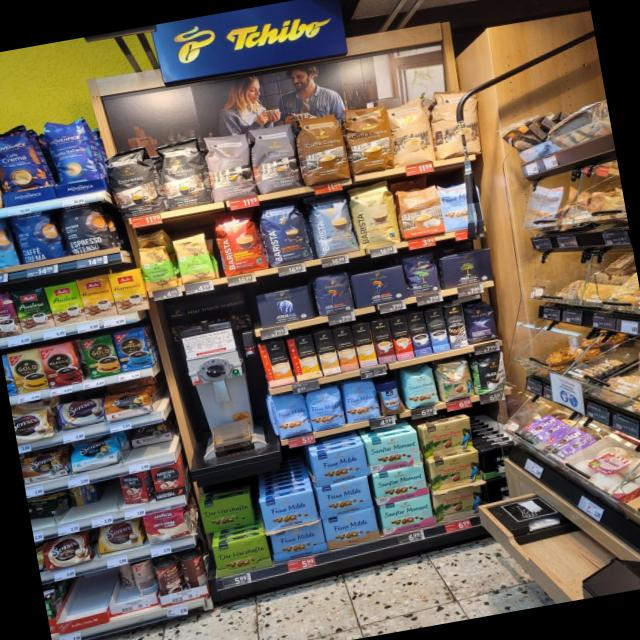AB Gemahlen: (253, 284, 315, 329)
Athiopien Bohne: (138, 242, 180, 294)
Athiopien Gemahlen: (172, 232, 218, 286)
BM Bohne: (402, 250, 444, 297)
BM Gemahlen: (437, 246, 498, 289)
BW Bohne: (467, 350, 513, 396)
Barista CB: (345, 180, 402, 250)
Barista CC: (302, 189, 360, 259)
Barista Espresso: (256, 200, 316, 267)
Barista Kolumbien: (210, 207, 268, 277)
C Fino Bohne: (463, 301, 500, 344)
CC Mild: (427, 86, 488, 162), (384, 97, 437, 169)
CC Vollmundig: (392, 176, 446, 238)
CC Vollmundig 36 Pads: (292, 112, 352, 186), (340, 102, 398, 176)
Colombia BB Bohne: (433, 358, 476, 403)
Colombia BB Gemahlen: (430, 482, 488, 522), (427, 451, 484, 490), (419, 419, 475, 457)
Espresso Aromatisch: (200, 128, 260, 204), (248, 120, 304, 193)
Espresso Kraftig: (100, 141, 166, 222), (150, 136, 212, 212)
FM 36 Pads: (437, 178, 485, 234)
FM Bohne: (268, 390, 312, 440), (303, 384, 347, 432), (341, 376, 382, 424)
FM Gemahlen: (258, 490, 321, 531), (321, 507, 382, 548), (315, 477, 375, 518), (310, 444, 370, 484), (268, 524, 328, 562)
FM Instant: (376, 378, 406, 417)
Herzhatfe Mundig: (210, 532, 274, 578), (196, 491, 258, 535)
LG Bohne: (309, 267, 356, 317)
LG Gemahlen: (348, 263, 411, 308)
SM Bohne: (400, 366, 440, 410)
SM Gemahlen: (370, 464, 431, 504), (364, 432, 424, 472), (378, 496, 435, 534)
Simo CCMild: (286, 334, 322, 382)
Simo CCMild bigpack: (351, 322, 377, 368)
Simo CCVollmundig: (256, 340, 294, 390)
Simo CCVollmundig bigpack: (333, 327, 359, 372)
Simo Decaff: (315, 329, 341, 376)
Simo Es Brazil: (390, 315, 414, 361)
Simo Es Caramel: (369, 318, 396, 364)
Simo Es Elegant: (444, 303, 468, 349)
Simo Es Kraft: (406, 310, 433, 356)
Simo Es Vanilla: (425, 308, 451, 352)
